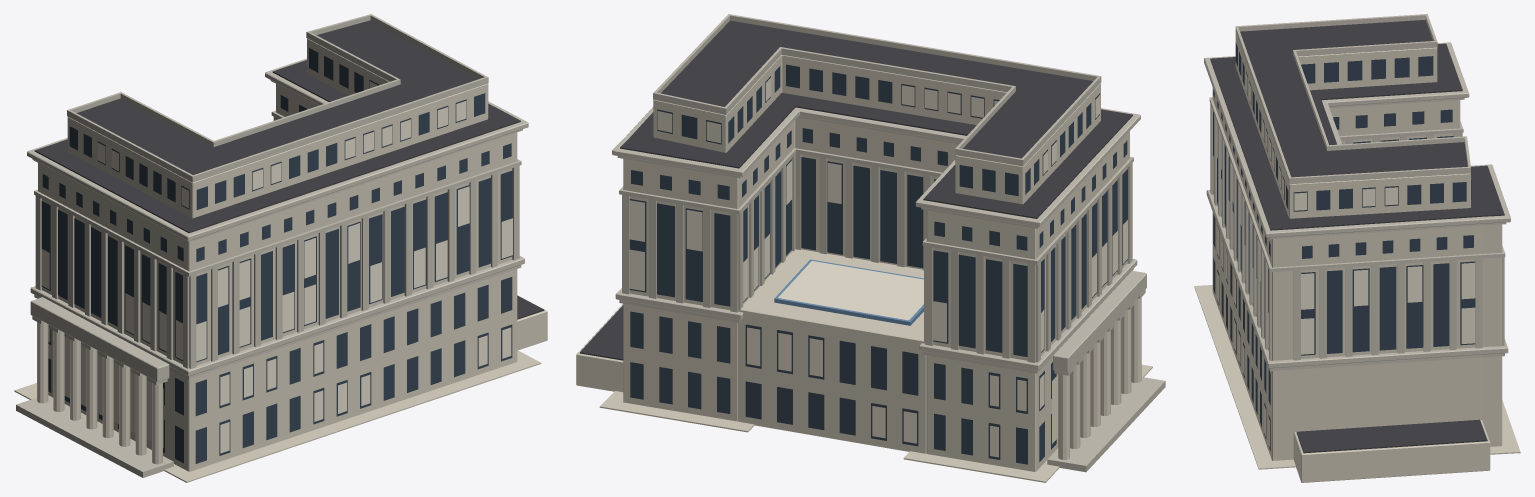
The model's file is 301-battery-street.glb.
The picture shows the model from 3 angles, left to right: view 1: azimuth 30°, elevation 25°; view 2: azimuth 150°, elevation 25°; view 3: azimuth 270°, elevation 25°; orthographic projection. The views are drawn at different scales.
Visible parts, largest first — view 1: 301-battery-street_body, 301-battery-street_night_glow; view 2: 301-battery-street_body, 301-battery-street_night_glow; view 3: 301-battery-street_body, 301-battery-street_night_glow.
Part boxes in pixels (x1,y1,x2,y2): 301-battery-street_body: [14, 14, 547, 482]; 301-battery-street_night_glow: [41, 81, 512, 453]; 301-battery-street_body: [576, 14, 1165, 482]; 301-battery-street_night_glow: [629, 78, 1127, 457]; 301-battery-street_body: [1194, 14, 1520, 482]; 301-battery-street_night_glow: [1213, 72, 1475, 447].
Bounding box in the file's own units: 82.57 × 47.6 × 51.39.
